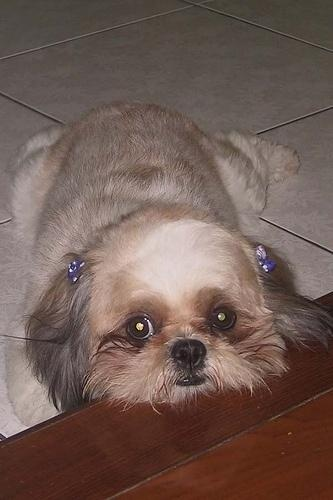dog: (4, 101, 325, 436)
